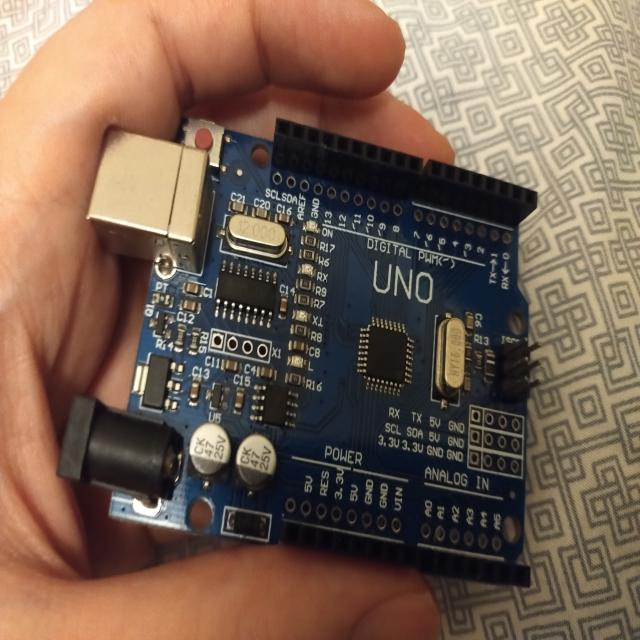arduino: (58, 80, 552, 602)
